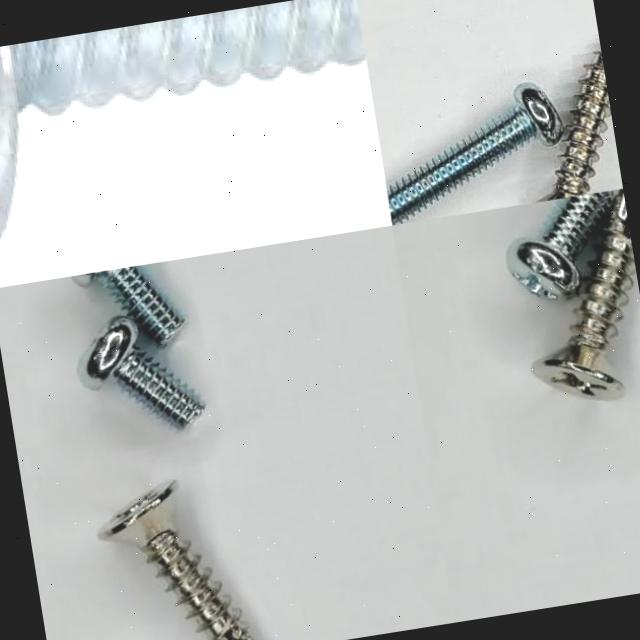Screw: (0, 0, 367, 241), (99, 481, 256, 640), (387, 84, 563, 225), (532, 189, 636, 400), (78, 316, 205, 428), (508, 190, 615, 298), (542, 50, 611, 202), (87, 266, 184, 346)
